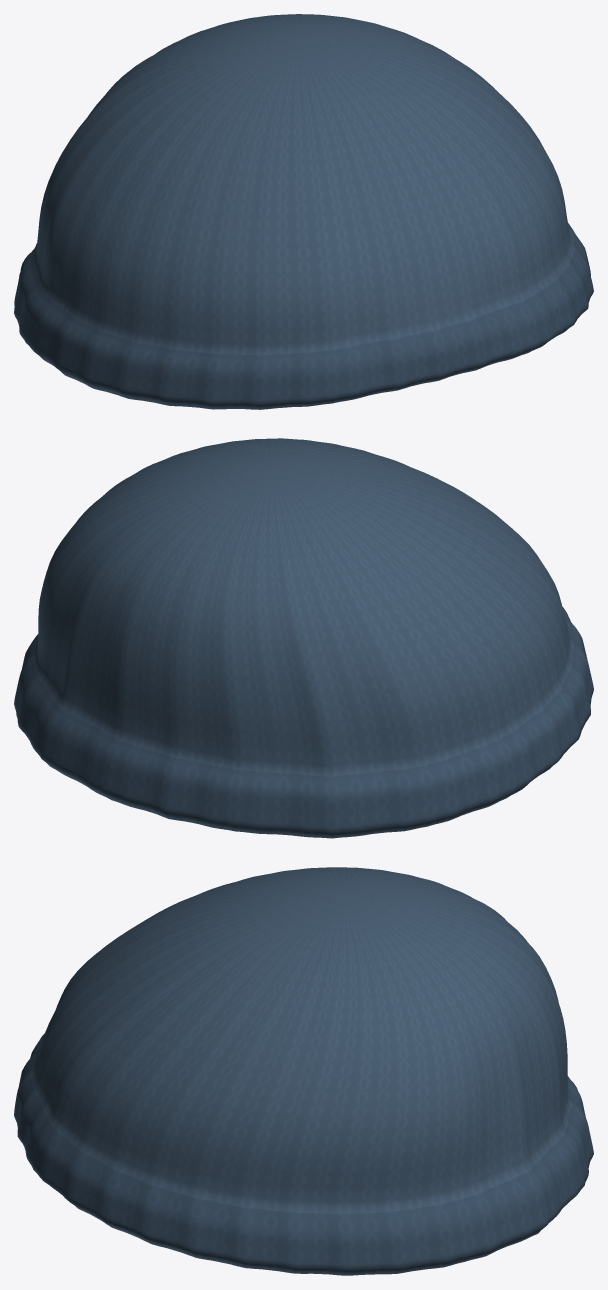
The model's file is beanie-masculine-middle-part.glb.
3 renders of one model, top to bottom at view 1: azimuth 30°, elevation 25°; view 2: azimuth 150°, elevation 25°; view 3: azimuth 270°, elevation 25°, orthographic. The views are drawn at different scales.
Parts seen in each view (by area): view 1: Beanie / fitted knit; view 2: Beanie / fitted knit; view 3: Beanie / fitted knit.
Part boxes in pixels (x1,y1,x2,y2): Beanie / fitted knit: [14, 14, 593, 409]; Beanie / fitted knit: [14, 438, 593, 838]; Beanie / fitted knit: [14, 867, 593, 1275].
Size of the model in its own units: 0.8143 by 0.4059 by 0.7842.
Materials: 2 (2 with a texture image).
